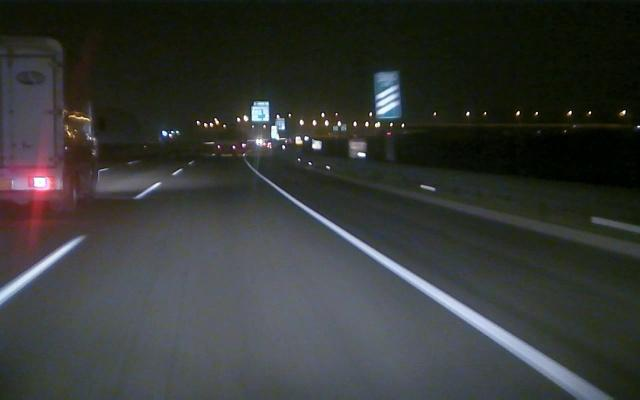lane: (264, 178, 611, 396), (1, 181, 164, 305)
